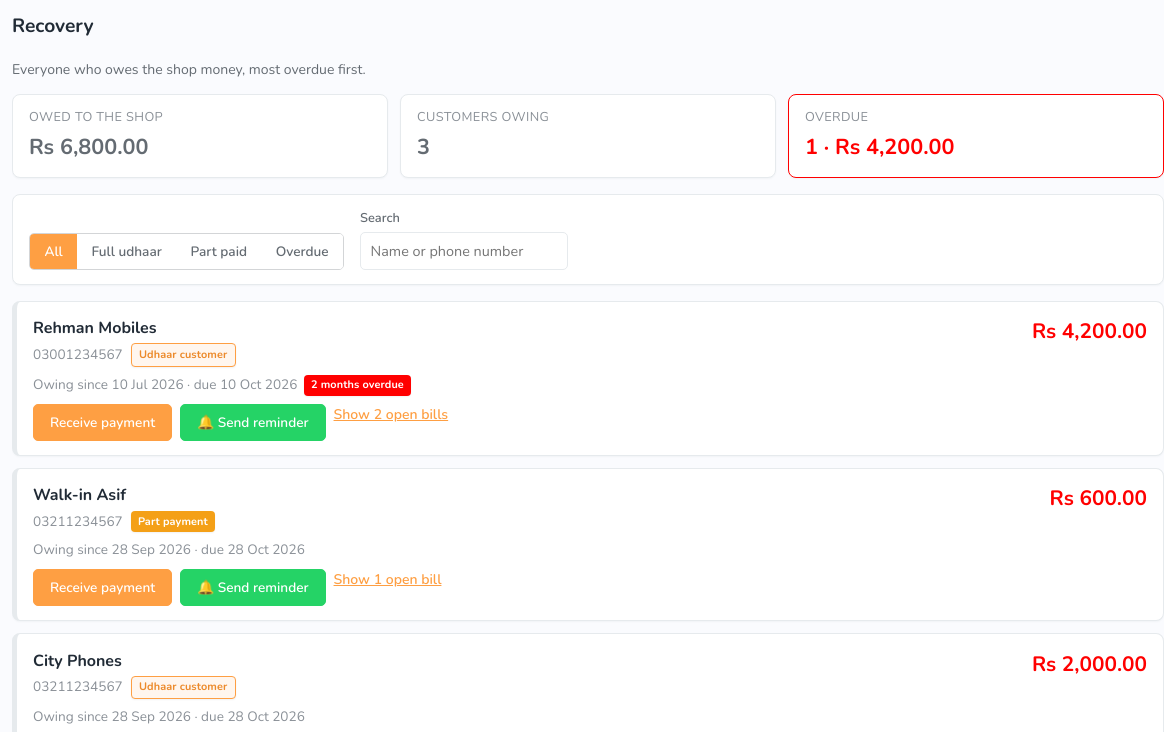
Test: the recovery page › filters to Overdue
Expected: the element with test id "recovery-7" is shown, [12,301,1163,456]
Click the button "Overdue" at (302,251), box [261,234,343,268]
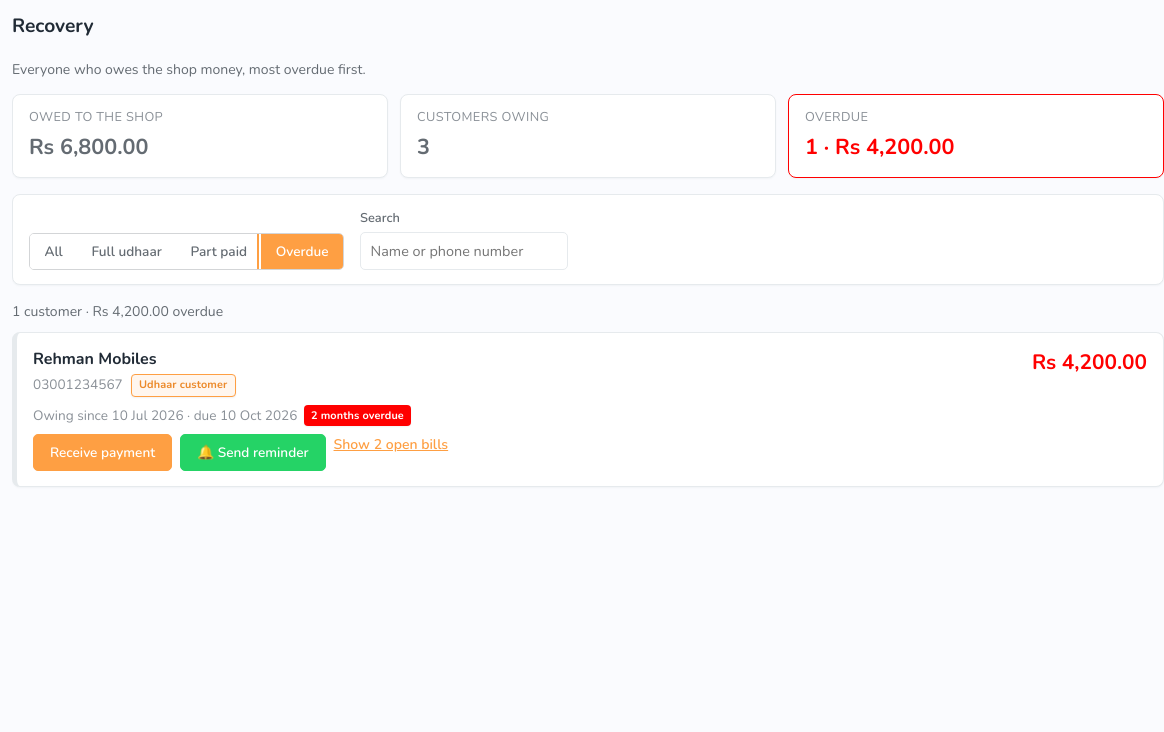
Expected: the element with test id "recovery-7" is shown, [12,332,1163,487]
Expected: the element with test id "recovery-9" is gone
